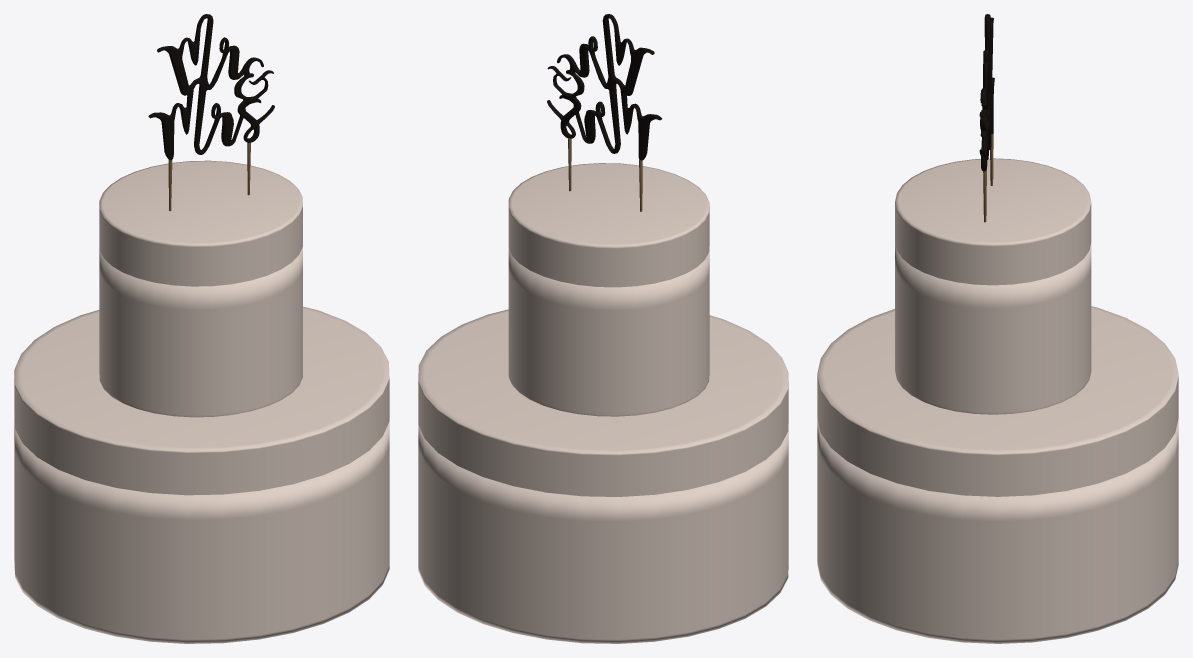
Rendered from 2-tier-white-none-mrms.glb.
3 views of the same model, side by side, from view 1: azimuth 30°, elevation 25°; view 2: azimuth 150°, elevation 25°; view 3: azimuth 270°, elevation 25° (orthographic).
Visible parts, largest first — view 1: Cylinder.023, Cylinder.013, mrms; view 2: Cylinder.023, Cylinder.013, mrms; view 3: Cylinder.023, Cylinder.013, mrms.
Boxes of the visible parts, x1=… form: Cylinder.023: x1=14, y1=306, x2=389, y2=643; Cylinder.013: x1=99, y1=160, x2=302, y2=417; mrms: x1=148, y1=14, x2=274, y2=211; Cylinder.023: x1=418, y1=309, x2=788, y2=643; Cylinder.013: x1=508, y1=163, x2=709, y2=416; mrms: x1=547, y1=14, x2=662, y2=211; Cylinder.023: x1=817, y1=306, x2=1178, y2=643; Cylinder.013: x1=895, y1=158, x2=1091, y2=414; mrms: x1=979, y1=14, x2=994, y2=222.
Bounding box in the file's own units: 3.4 × 5.48 × 3.27.
